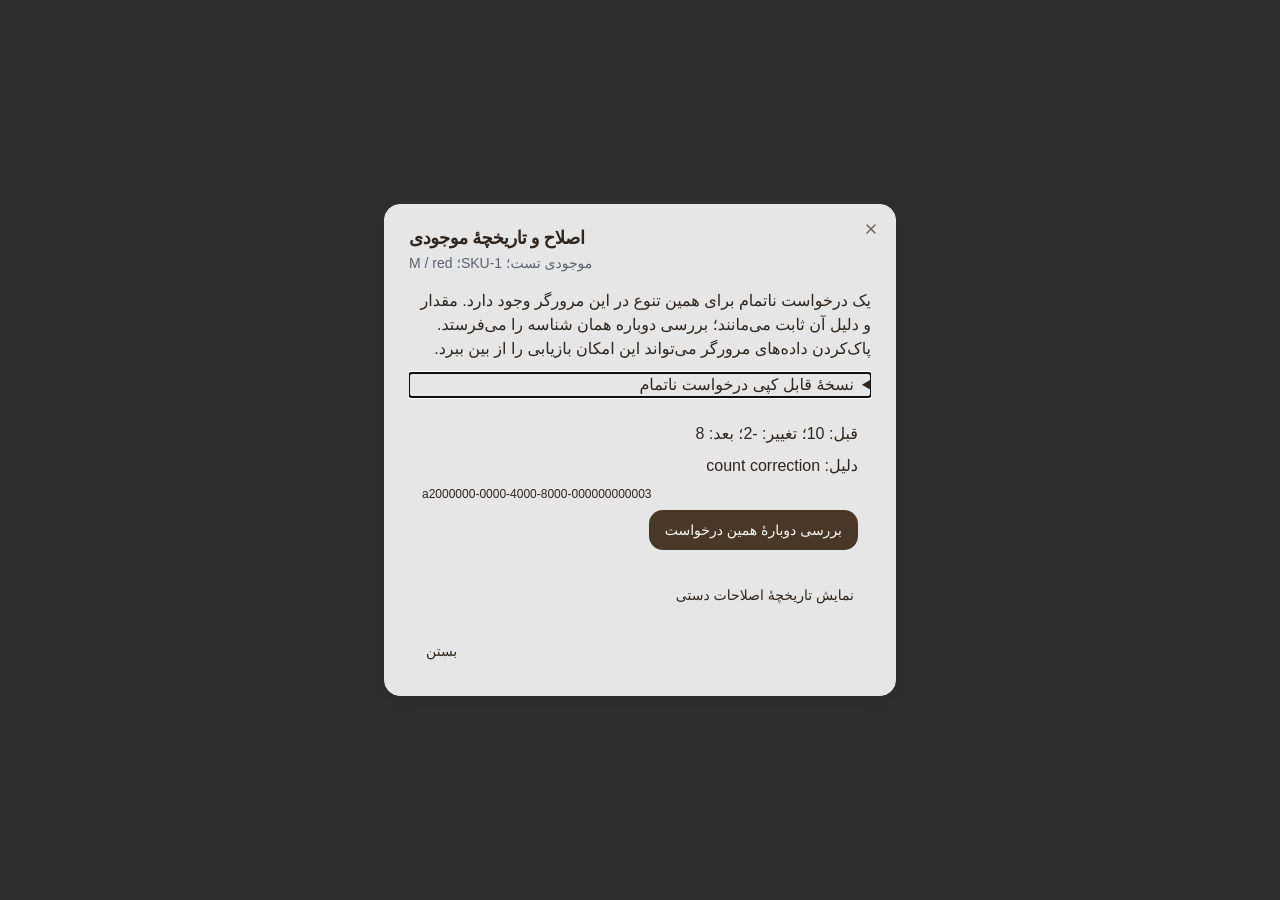
it: adjustment confirmation and recovery UI › keeps the saved target after a lost response and allows exact-key retry
This screenshot has width=1280, height=900.
Click the button "بررسی دوبارهٔ همین درخواست". click: [753, 530]
box: [649,510,858,550]
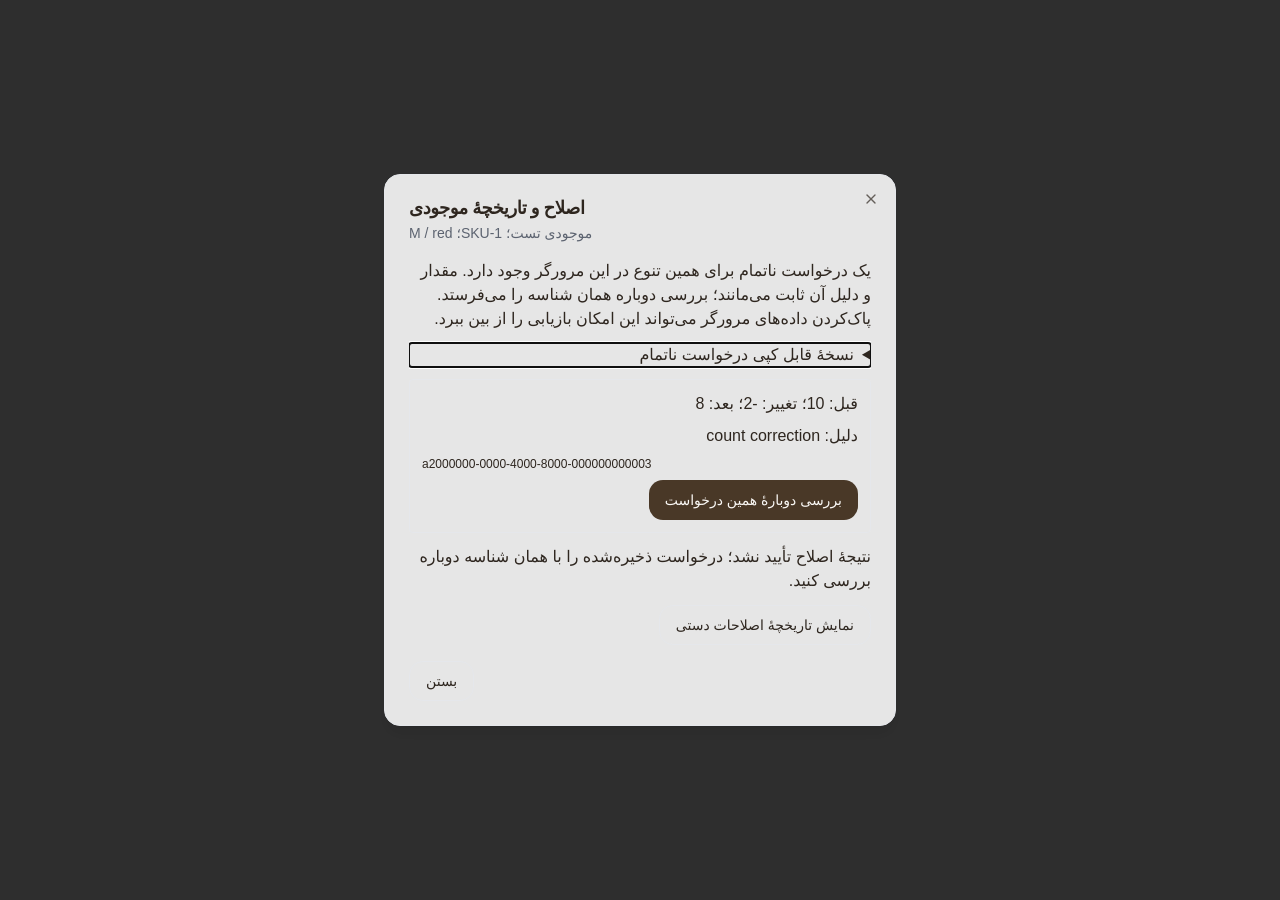
Check: the text "نتیجهٔ اصلاح تأیید نشد؛ درخواست ذخیره‌شده را با همان شناسه دوباره بررسی کنید." is shown, box [409,545,871,593]
